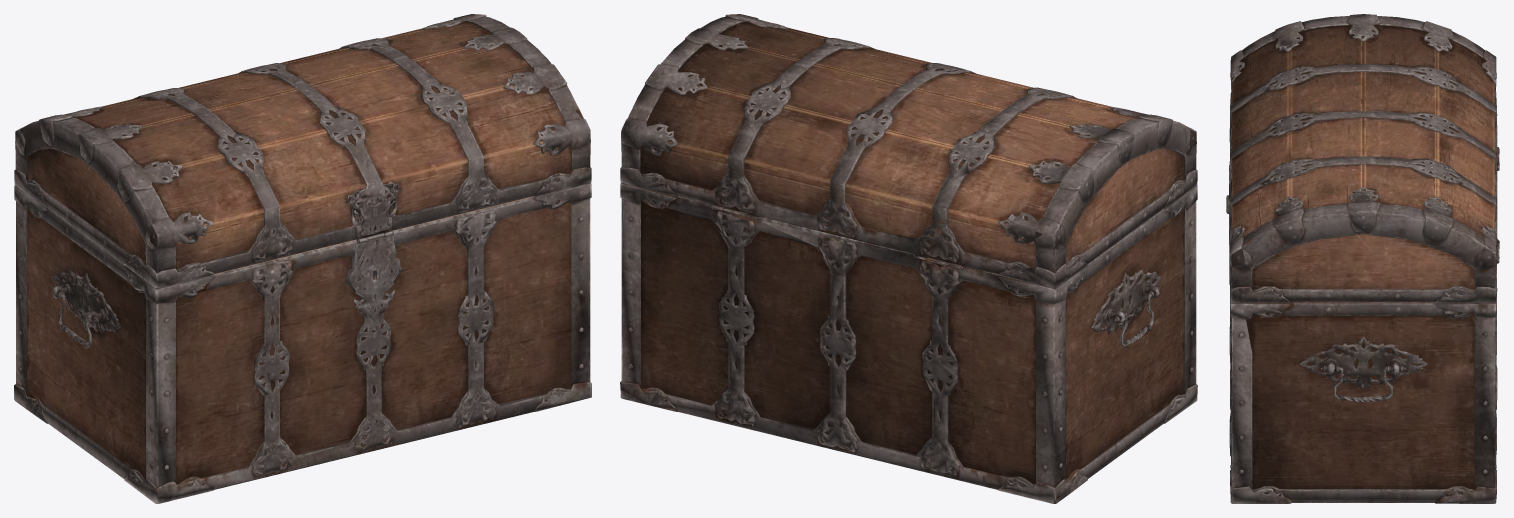
File: treasure_chest.glb
3 views of the same model, side by side, from view 1: azimuth 30°, elevation 25°; view 2: azimuth 150°, elevation 25°; view 3: azimuth 270°, elevation 25° (orthographic). The views are drawn at different scales.
Parts seen in each view (by area): view 1: treasure_chest_bottom; view 2: treasure_chest_bottom; view 3: treasure_chest_bottom.
Part boxes in pixels (bbox=[...]): treasure_chest_bottom: bbox=[14, 14, 591, 503]; treasure_chest_bottom: bbox=[620, 14, 1197, 503]; treasure_chest_bottom: bbox=[1226, 14, 1499, 503].
Bounding box in the file's own units: 0.959 × 0.617 × 0.5223.
1 material, 1 textured.
